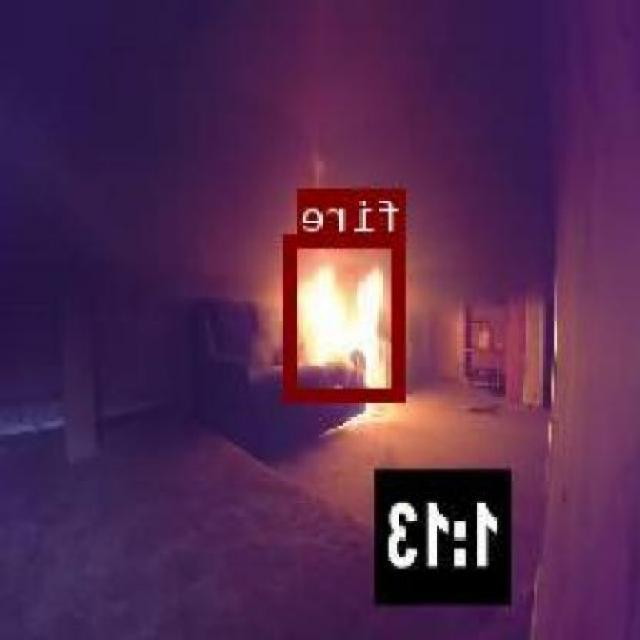Fire: (288, 234, 407, 400)
